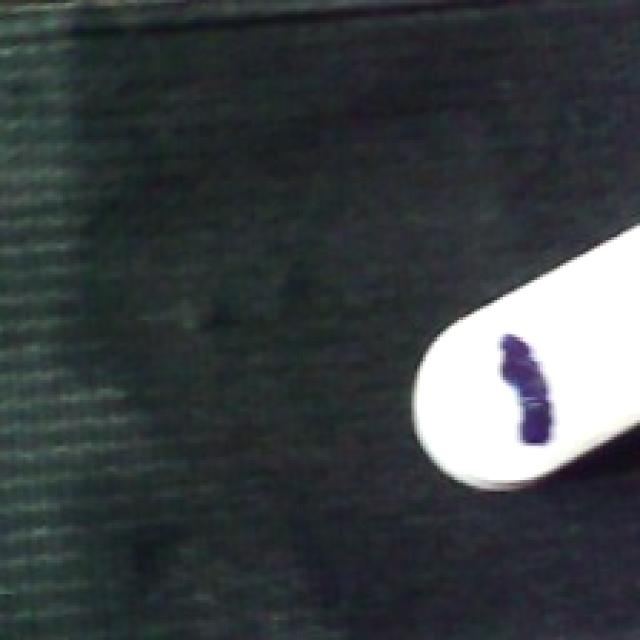defected: (406, 219, 640, 497)
